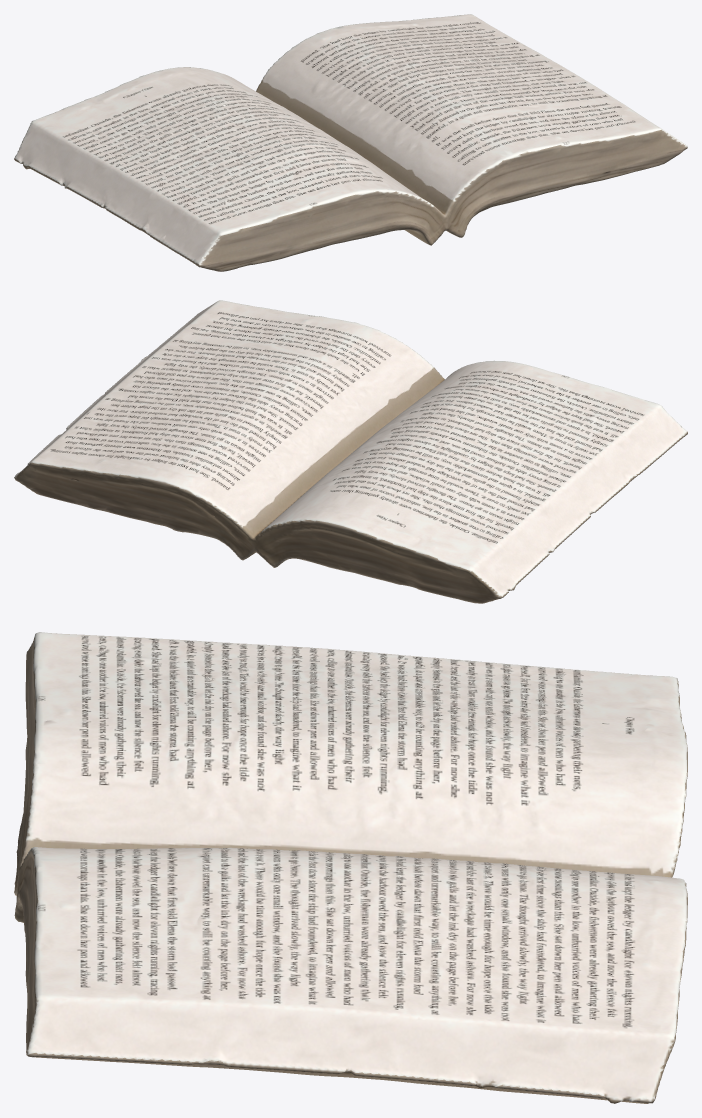
File: open-book-table-ready.glb
3 views of the same model, one above another, from view 1: azimuth 30°, elevation 25°; view 2: azimuth 150°, elevation 25°; view 3: azimuth 270°, elevation 25° (orthographic). The views are drawn at different scales.
Visible parts, largest first — view 1: open_book; view 2: open_book; view 3: open_book.
Part boxes in pixels (x1,y1,x2,y2): open_book: [14, 14, 687, 271]; open_book: [14, 300, 687, 603]; open_book: [14, 632, 687, 1103].
Size of the model in its own units: 0.28 by 0.0491 by 0.1985.
1 material, 1 textured.
